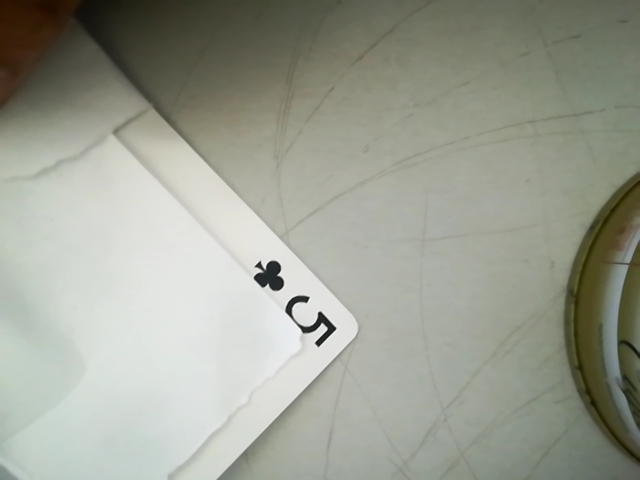mh 5: (247, 252, 347, 355)
